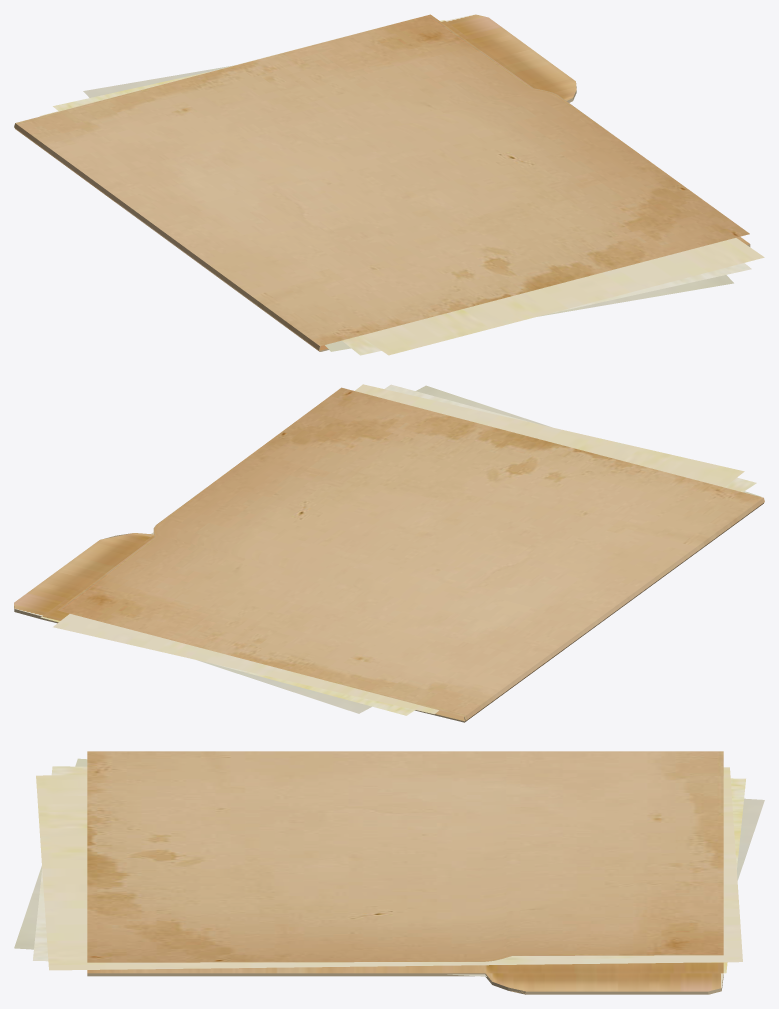
File: folder.fbx
3 views of the same model, one above another, from view 1: azimuth 30°, elevation 25°; view 2: azimuth 150°, elevation 25°; view 3: azimuth 270°, elevation 25° (orthographic). The views are drawn at different scales.
Parts seen in each view (by area): view 1: FOLDE; view 2: FOLDE; view 3: FOLDE.
Boxes of the visible parts, x1,y1,x2,y2 form: FOLDE: (14, 14, 764, 355); FOLDE: (14, 384, 764, 722); FOLDE: (14, 751, 764, 994).
Size of the model in its own units: 117 by 3.15 by 156.
